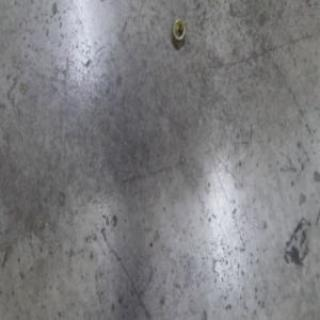Nuttrack_idkeyframe: (170, 12, 186, 46)
